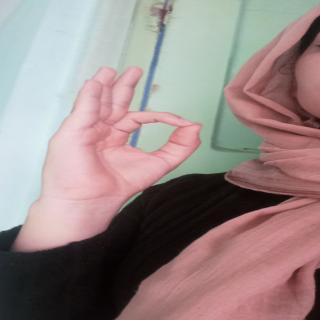Space: (42, 56, 208, 202)
